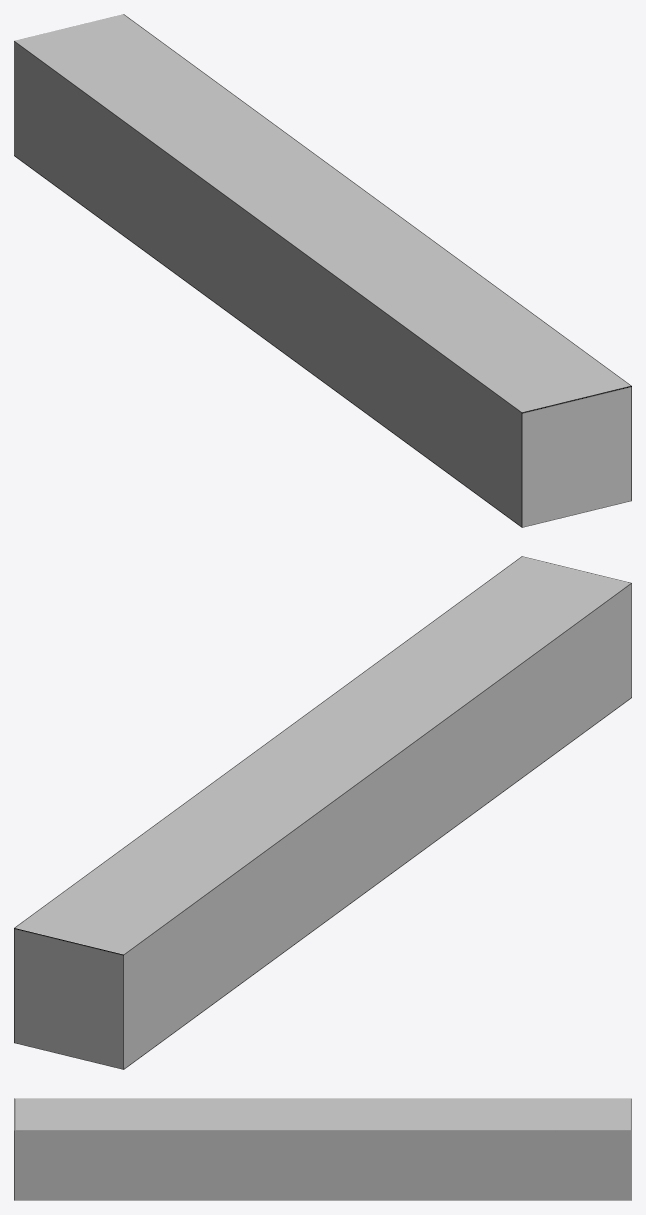
Rendered from roof_fill.obj.
3 views of the same model, one above another, from view 1: azimuth 30°, elevation 25°; view 2: azimuth 150°, elevation 25°; view 3: azimuth 270°, elevation 25° (orthographic). The views are drawn at different scales.
Visible parts, largest first — view 1: roof_fill_Cube.005; view 2: roof_fill_Cube.005; view 3: roof_fill_Cube.005.
Boxes of the visible parts, x1=… form: roof_fill_Cube.005: x1=14, y1=14, x2=631, y2=527; roof_fill_Cube.005: x1=14, y1=556, x2=631, y2=1069; roof_fill_Cube.005: x1=14, y1=1098, x2=631, y2=1200.
Bounding box in the file's own units: 2 × 2 × 16.
Materials: 1 (1 with a texture image).
